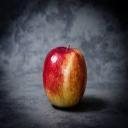apple: (41, 43, 88, 110)
